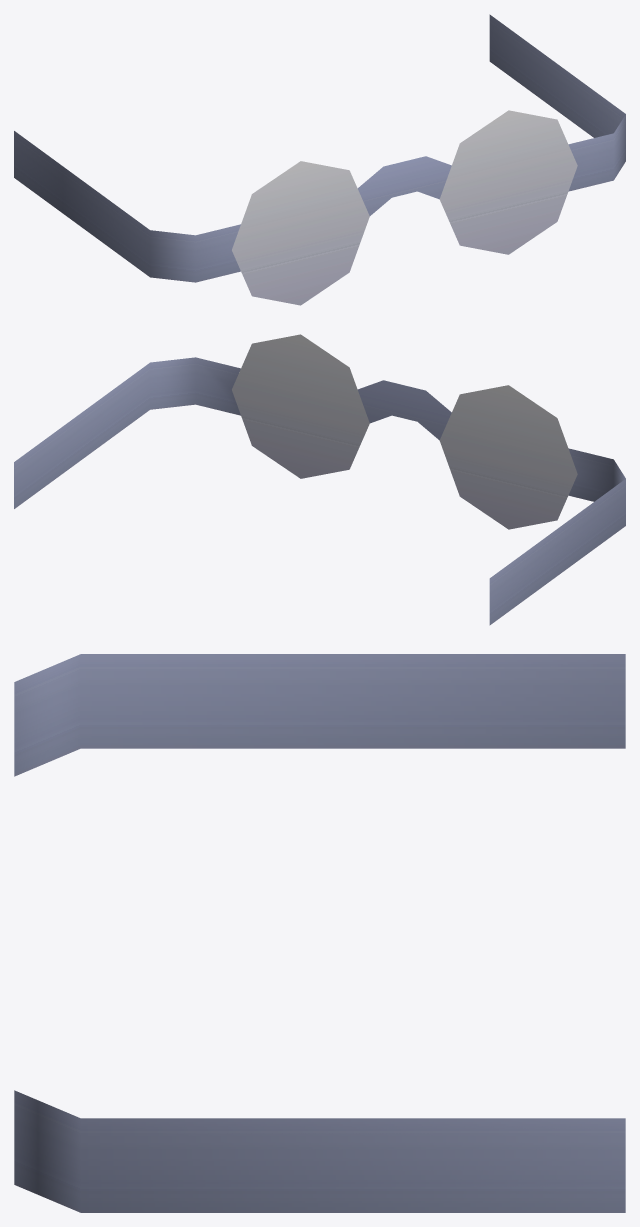
The model's file is aid-glasses.glb.
3 renders of one model, top to bottom at view 1: azimuth 30°, elevation 25°; view 2: azimuth 150°, elevation 25°; view 3: azimuth 270°, elevation 25°, orthographic. The views are drawn at different scales.
Visible parts, largest first — view 1: aid-glasses; view 2: aid-glasses; view 3: aid-glasses.
Part boxes in pixels (x1,y1,x2,y2): aid-glasses: (14, 14, 625, 305); aid-glasses: (14, 334, 625, 625); aid-glasses: (14, 654, 625, 1212).
Bounding box in the file's own units: 0.33 × 0.0958 × 0.1836.
1 material, 1 textured.
